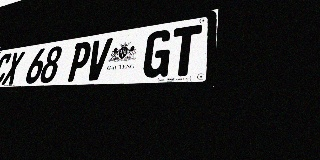6: (23, 47, 49, 84)
8: (38, 45, 65, 83)
C: (0, 53, 13, 85)
G: (141, 29, 173, 78)
P: (65, 41, 93, 82)
T: (168, 24, 202, 77)
V: (84, 38, 113, 81)
X: (1, 51, 25, 85)
